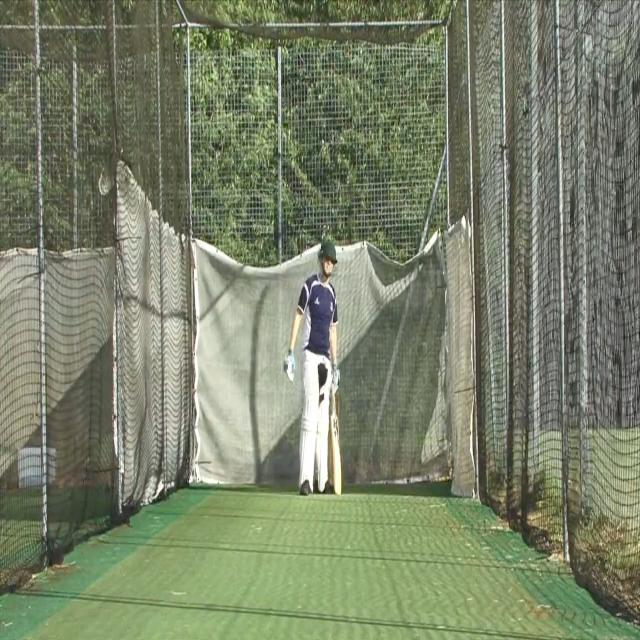batsman: (282, 236, 343, 498)
